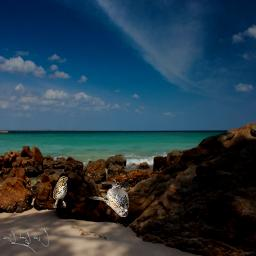Sparrow: (89, 182, 129, 217), (53, 176, 68, 208)
